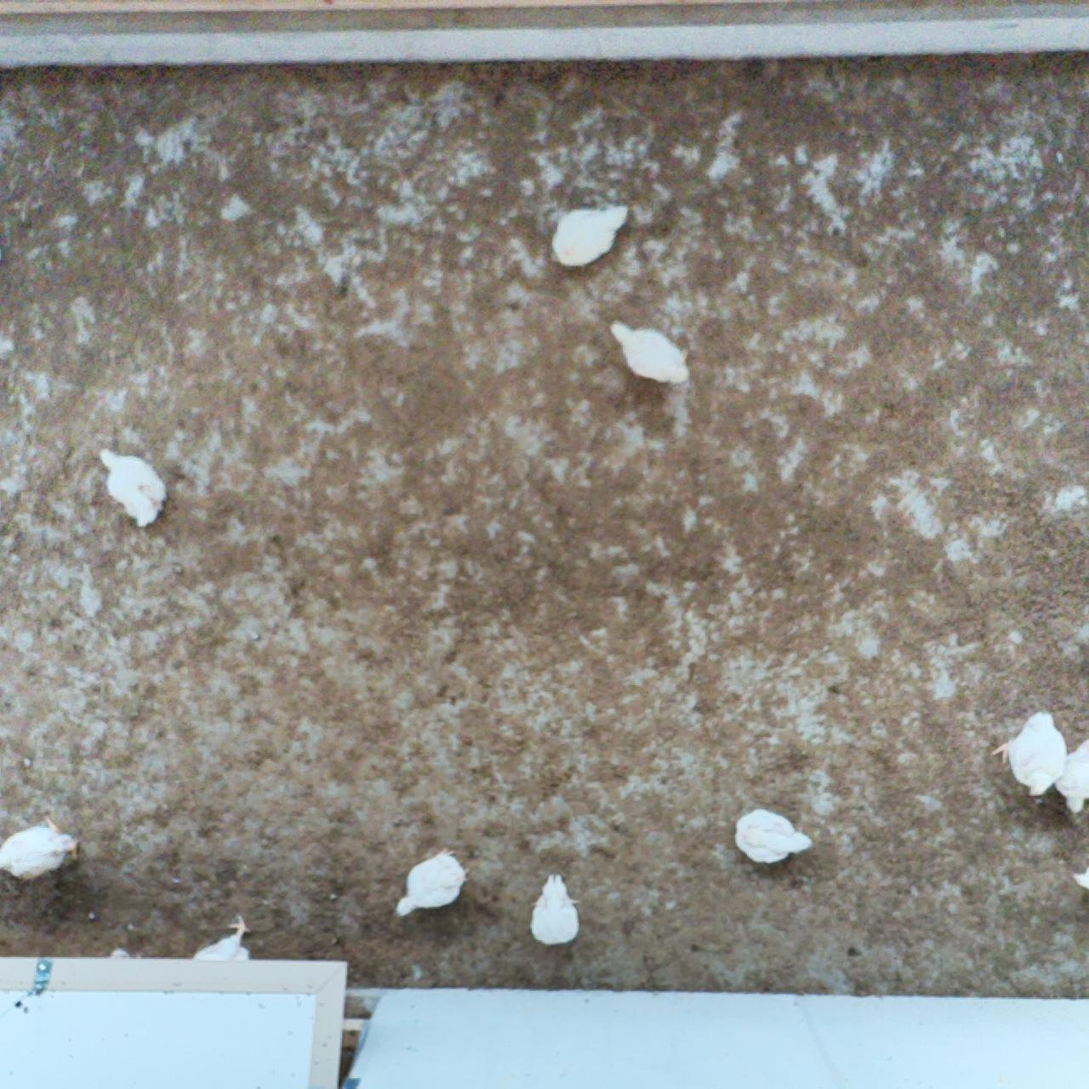chicken: (985, 708, 1066, 803), (93, 443, 172, 532), (602, 314, 693, 391), (0, 810, 82, 890), (548, 200, 632, 276), (392, 847, 472, 922), (729, 805, 815, 868), (527, 865, 584, 952), (189, 911, 257, 967), (1053, 733, 1089, 816)
